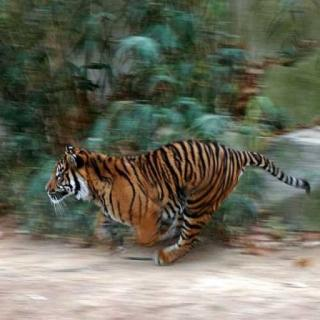Tiger: (43, 138, 314, 270)
